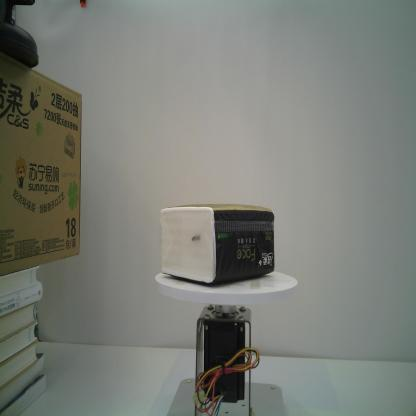Tissue: (158, 202, 277, 287)
